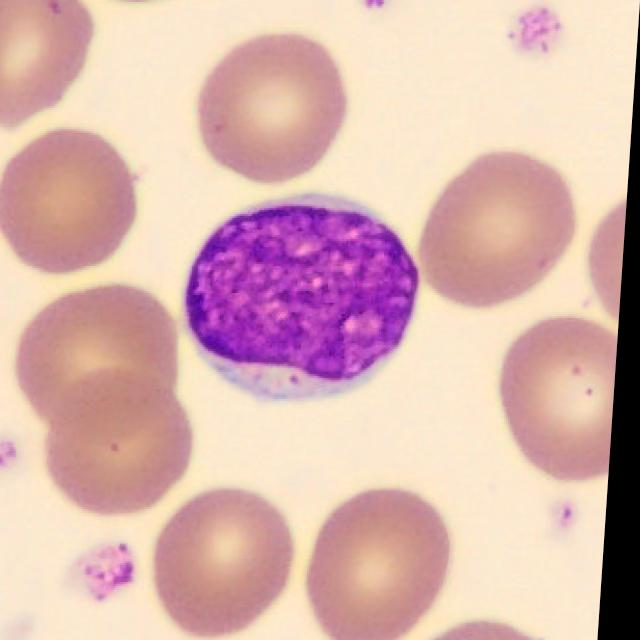Linfocito: (188, 193, 424, 401)
